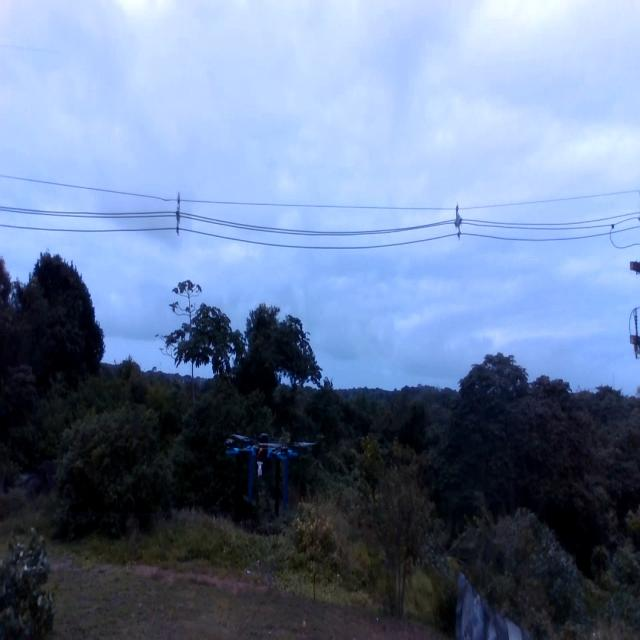-uav-: (217, 416, 315, 514)
